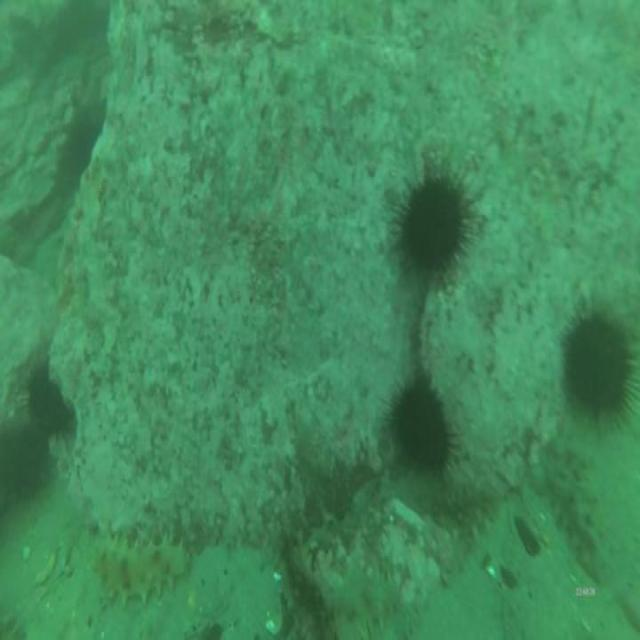echinus: (388, 153, 478, 286), (554, 300, 639, 430), (382, 365, 462, 487), (23, 354, 72, 441), (65, 114, 104, 185)
holothurian: (540, 432, 610, 594), (84, 528, 194, 616), (328, 565, 422, 640), (407, 480, 503, 540)
